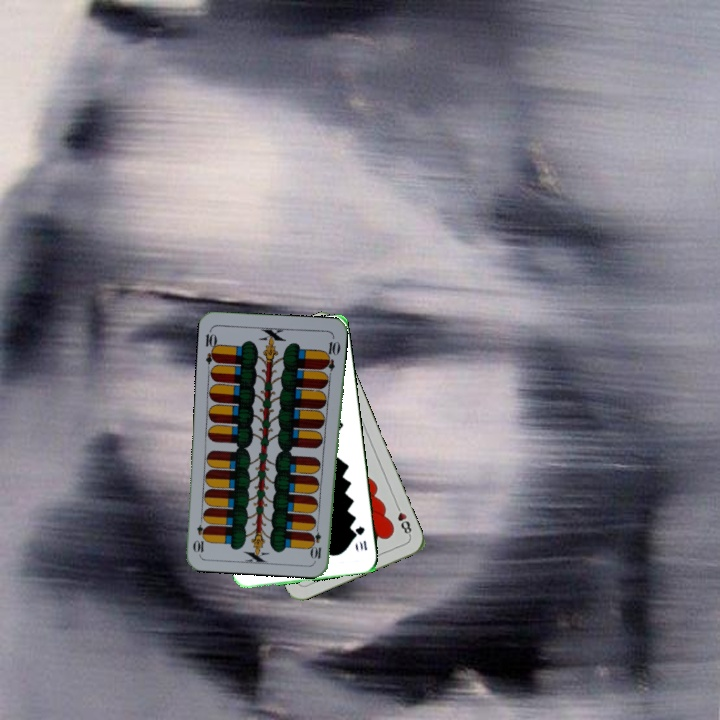E10: (201, 326, 220, 366), (309, 521, 324, 561)
G10: (351, 522, 370, 553)
H8: (392, 500, 414, 539)
